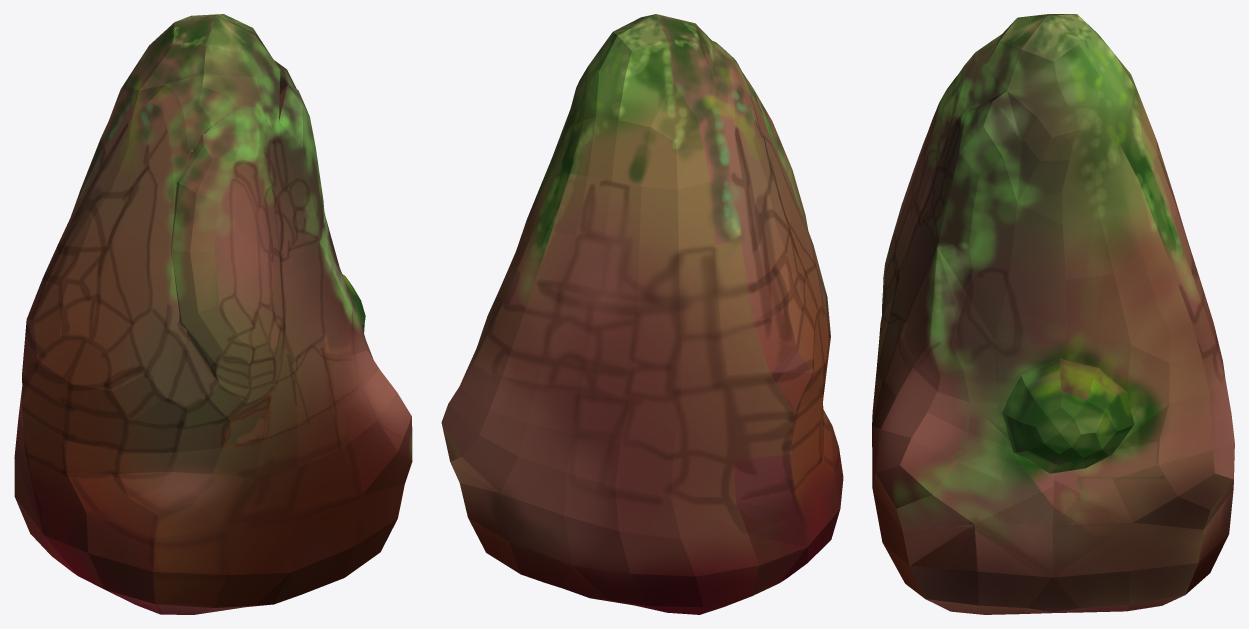
Rendered from Rock_006.fbx.
3 views of the same model, side by side, from view 1: azimuth 30°, elevation 25°; view 2: azimuth 150°, elevation 25°; view 3: azimuth 270°, elevation 25° (orthographic). The views are drawn at different scales.
Parts seen in each view (by area): view 1: Rock_006; view 2: Rock_006; view 3: Rock_006.
Boxes of the visible parts, bbox=[...] form: Rock_006: bbox=[14, 14, 412, 614]; Rock_006: bbox=[441, 14, 843, 614]; Rock_006: bbox=[872, 14, 1234, 614].
Size of the model in its own units: 409 by 681 by 396.
